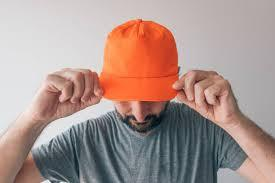cap: (93, 15, 183, 107)
